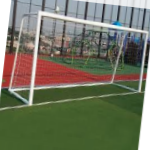goals: (8, 10, 150, 105)
